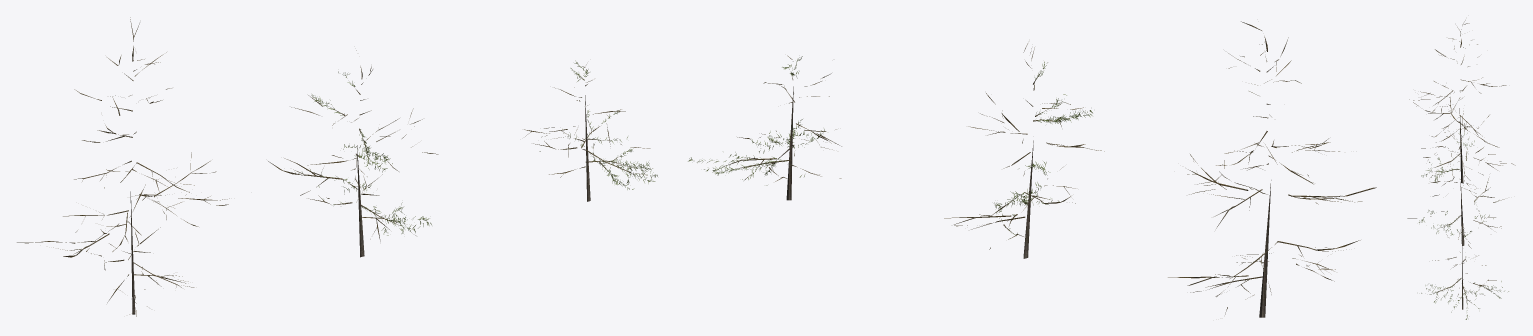
File: fir.glb
3 views of the same model, side by side, from view 1: azimuth 30°, elevation 25°; view 2: azimuth 150°, elevation 25°; view 3: azimuth 270°, elevation 25° (orthographic). The views are drawn at different scales.
Parts seen in each view (by area): view 1: fir_sapling_a, fir_sapling_b, fir_sapling_c; view 2: fir_sapling_a, fir_sapling_b, fir_sapling_c; view 3: fir_sapling_a, fir_sapling_b, fir_sapling_c.
Boxes of the visible parts, x1,y1,x2,y2 form: fir_sapling_a: (17,17,229,316); fir_sapling_b: (268,50,438,257); fir_sapling_c: (524,60,657,201); fir_sapling_a: (1168,21,1376,317); fir_sapling_b: (944,43,1104,258); fir_sapling_c: (688,55,841,200); fir_sapling_a: (1409,20,1515,186); fir_sapling_b: (1407,123,1504,245); fir_sapling_c: (1421,229,1508,319).
Bounding box in the file's own units: 2.73 × 1.25 × 0.7538.
2 materials, 2 textured.
